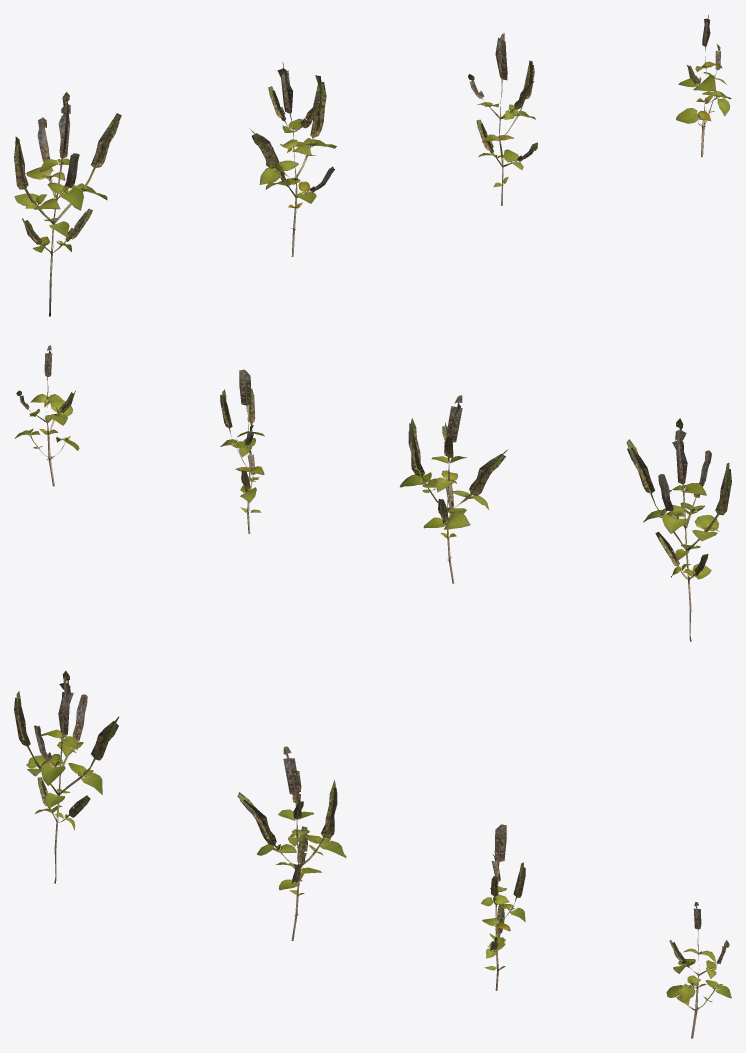
Rendered from shrub_03.glb.
The picture shows the model from 3 angles, top to bottom: view 1: azimuth 30°, elevation 25°; view 2: azimuth 150°, elevation 25°; view 3: azimuth 330°, elevation 25°; orthographic projection. The views are drawn at different scales.
Parts seen in each view (by area): view 1: shrub_03_a; view 2: shrub_03_a; view 3: shrub_03_a.
Boxes of the visible parts, x1,y1,x2,y2 form: shrub_03_a: (14, 15, 731, 316); shrub_03_a: (14, 345, 731, 641); shrub_03_a: (14, 670, 731, 1038).
Size of the model in its own units: 1.37 by 0.4028 by 0.1512.
1 material, 1 textured.
